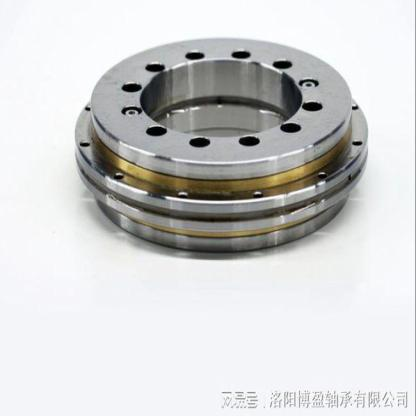FOD: (72, 32, 372, 260)
